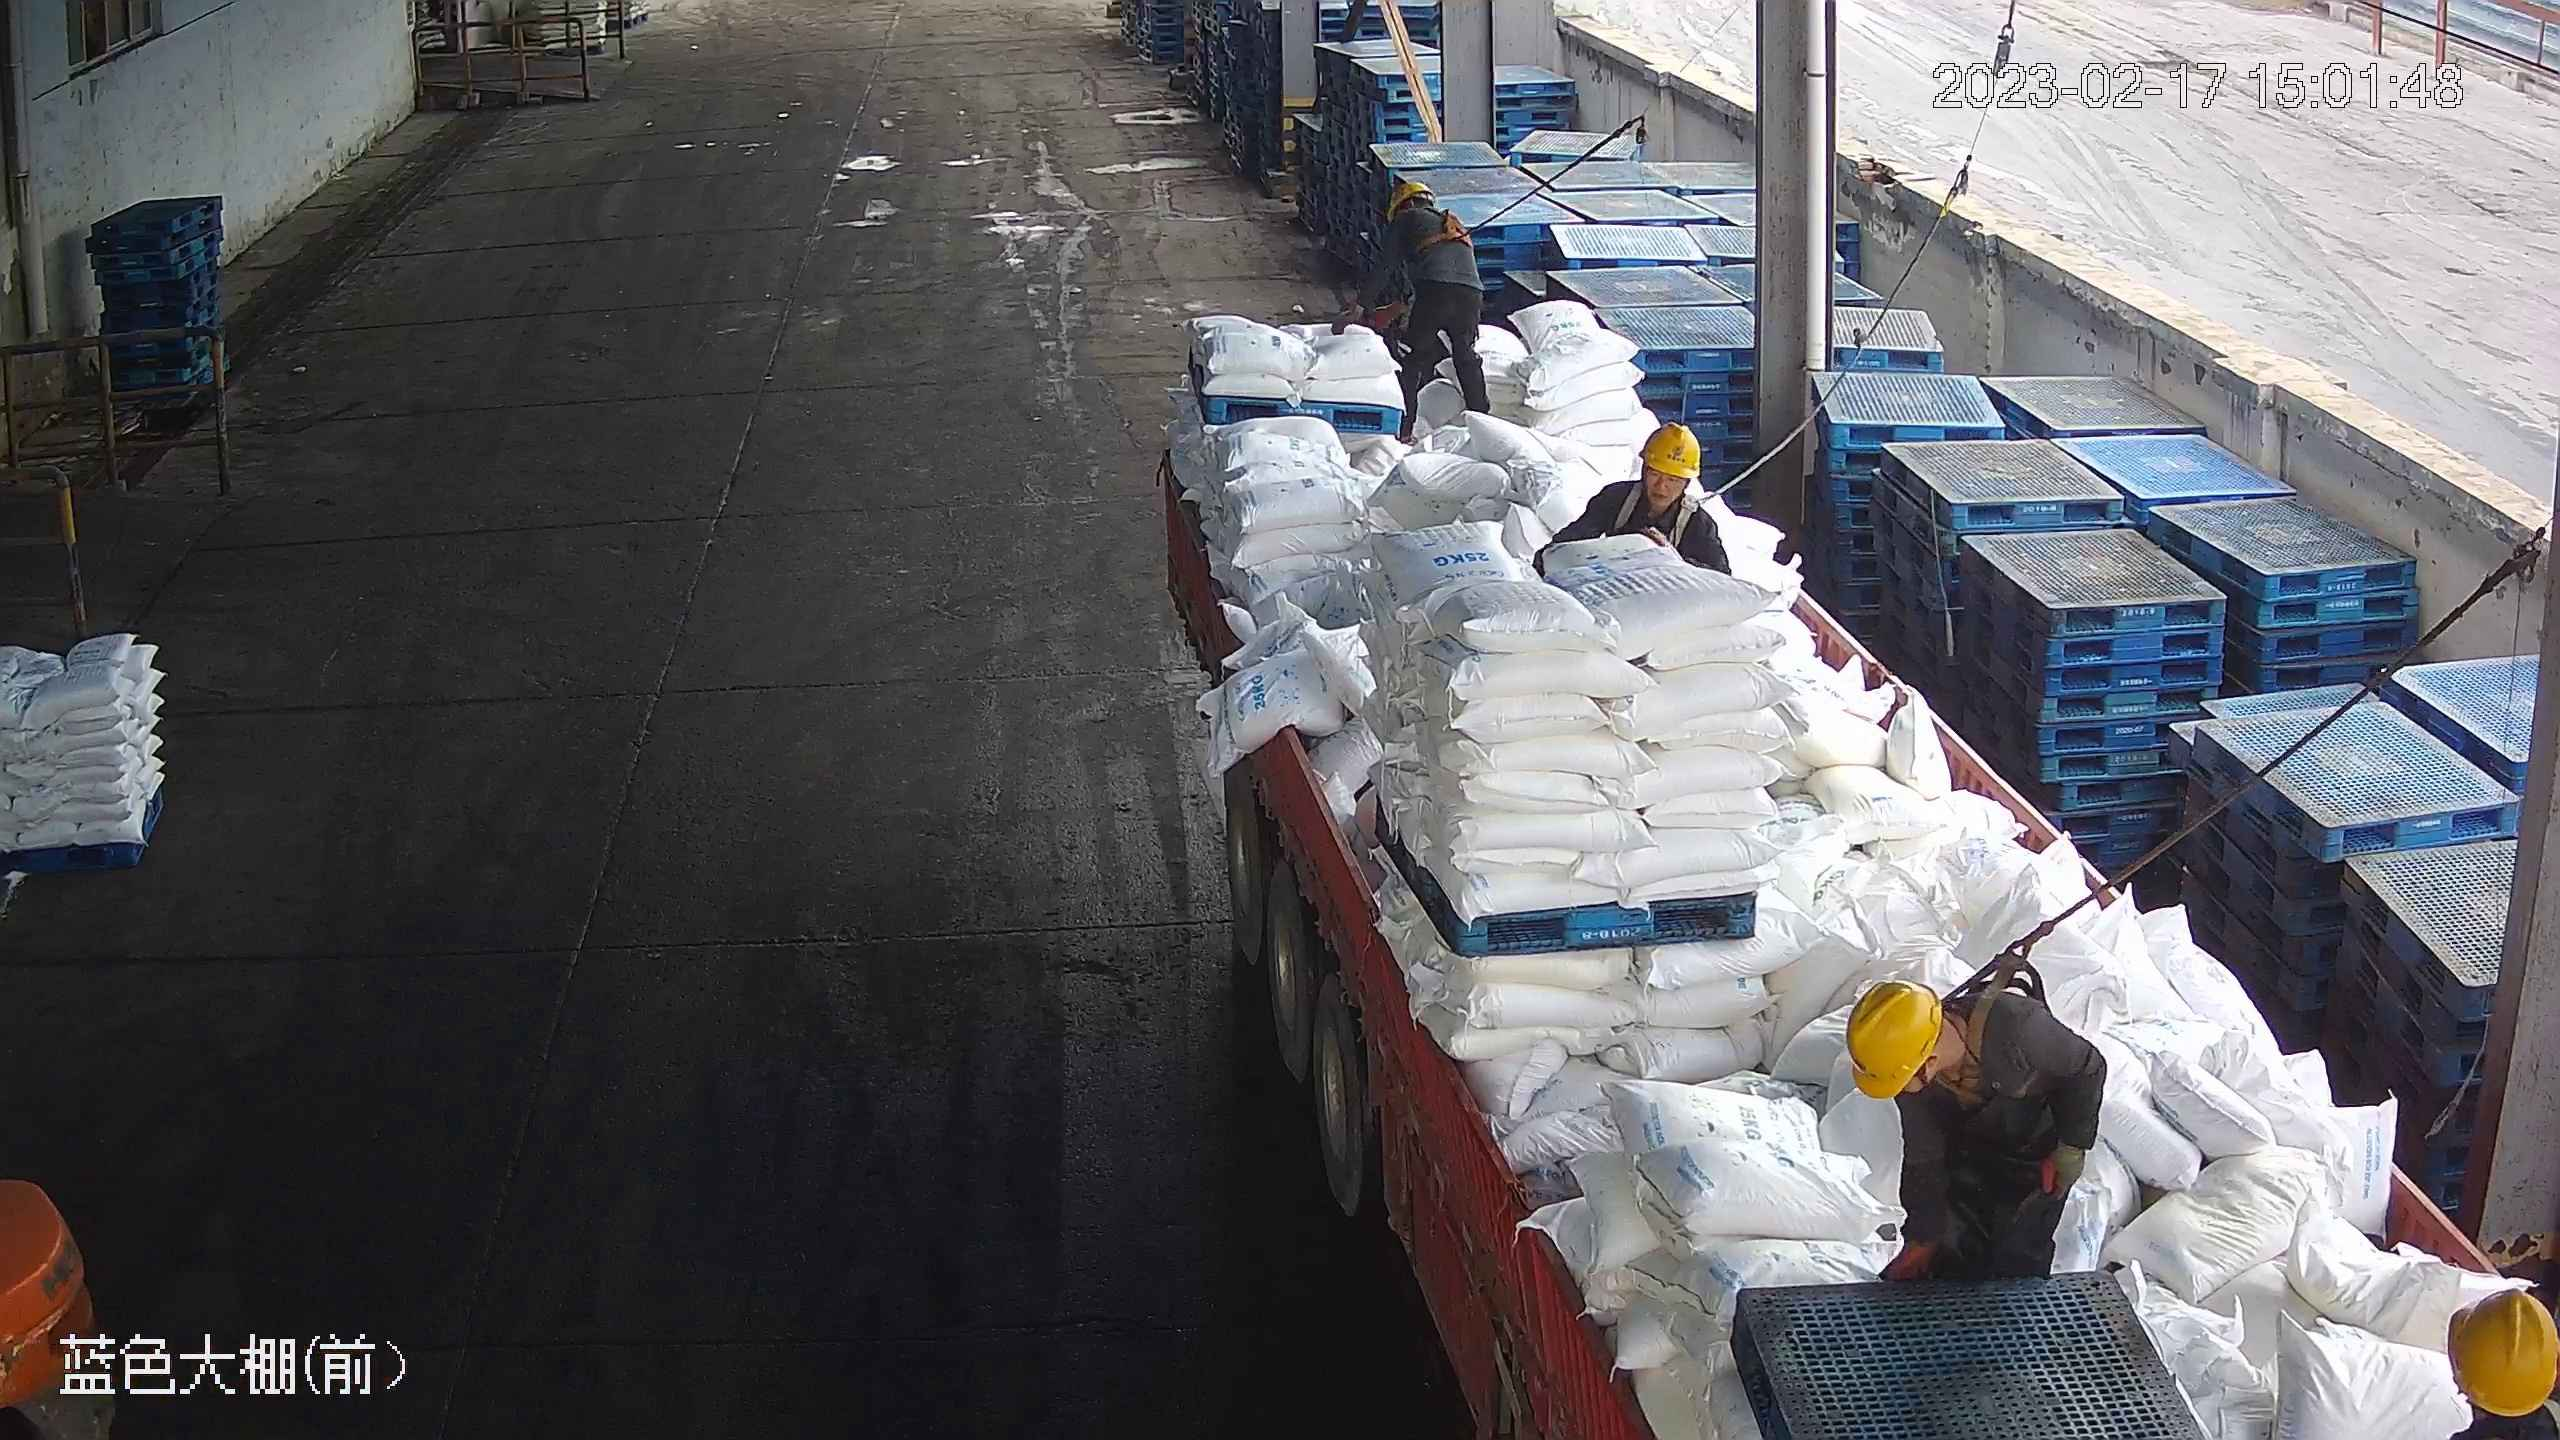belt: (1940, 932, 2048, 1098), (1592, 421, 1724, 543), (1622, 484, 1696, 547), (1408, 198, 1478, 255)
head: (1846, 967, 2043, 1112), (1592, 419, 1726, 541), (1385, 180, 1476, 244)
helmet: (2448, 1285, 2559, 1416), (1842, 978, 1947, 1100), (1640, 420, 1703, 476), (1391, 180, 1432, 219)
people: (1840, 960, 2108, 1288), (1362, 176, 1496, 437)
truck: (1154, 433, 2556, 1438)
